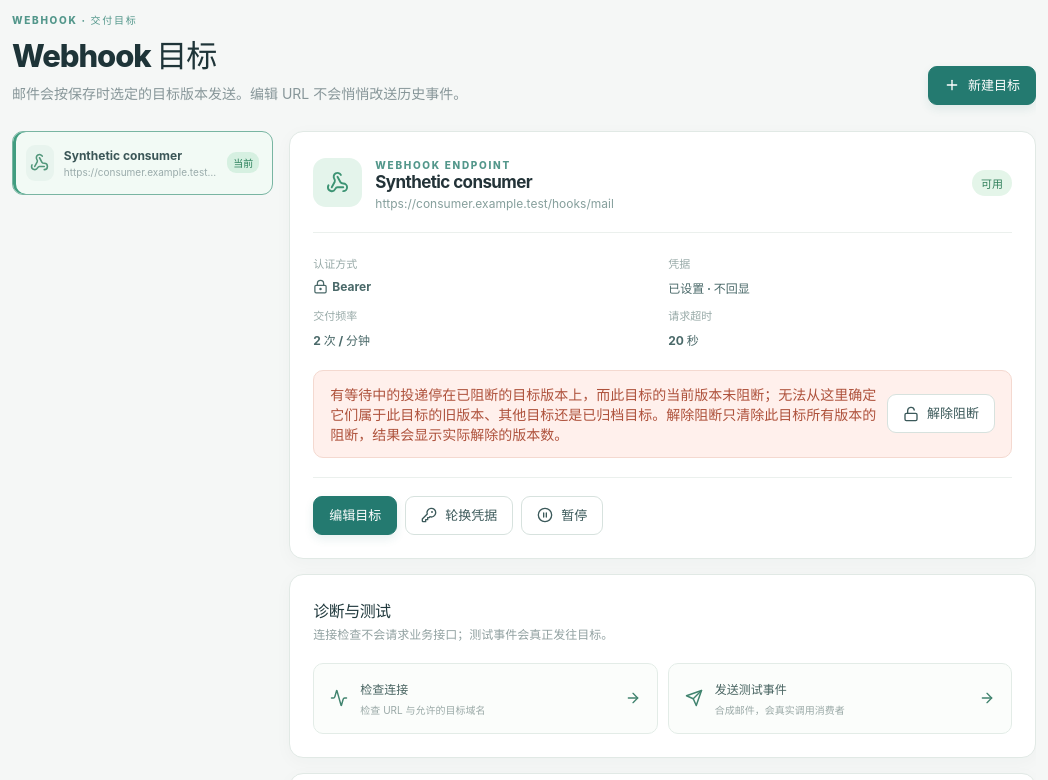
Test: offers unblock for a block reported only by the alert and hides it until a later check
Check: the text "无法从这里确定它们属于此目标的旧版本、其他目标还是已归档目标" shows "实际解除的版本数", box top-left (330, 386), bottom-right (876, 443)
Check: the text "可用" is shown, box top-left (972, 170), bottom-right (1012, 196)
Click the button "解除阻断". click: (941, 414)
box: top-left (887, 394), bottom-right (995, 434)
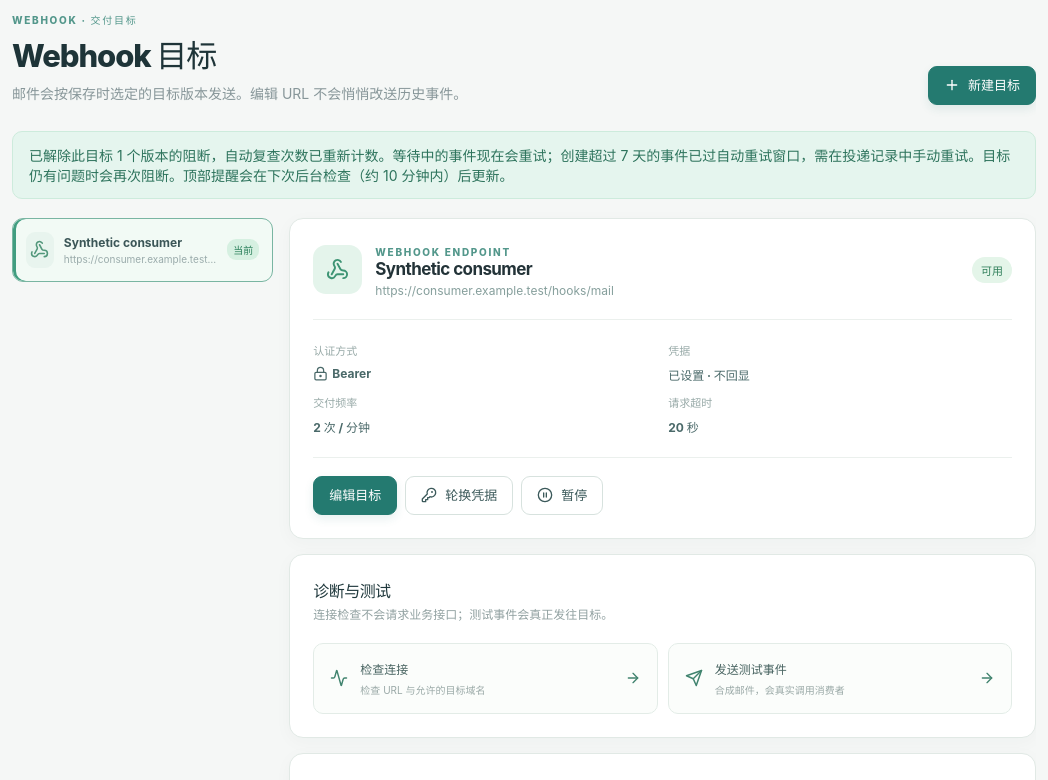
Check: the text "已解除此目标 1 个版本的阻断" is shown, box top-left (29, 147), bottom-right (1010, 184)
Check: the text "无法从这里确定" is gone
Check: the text "解除阻断" is gone
